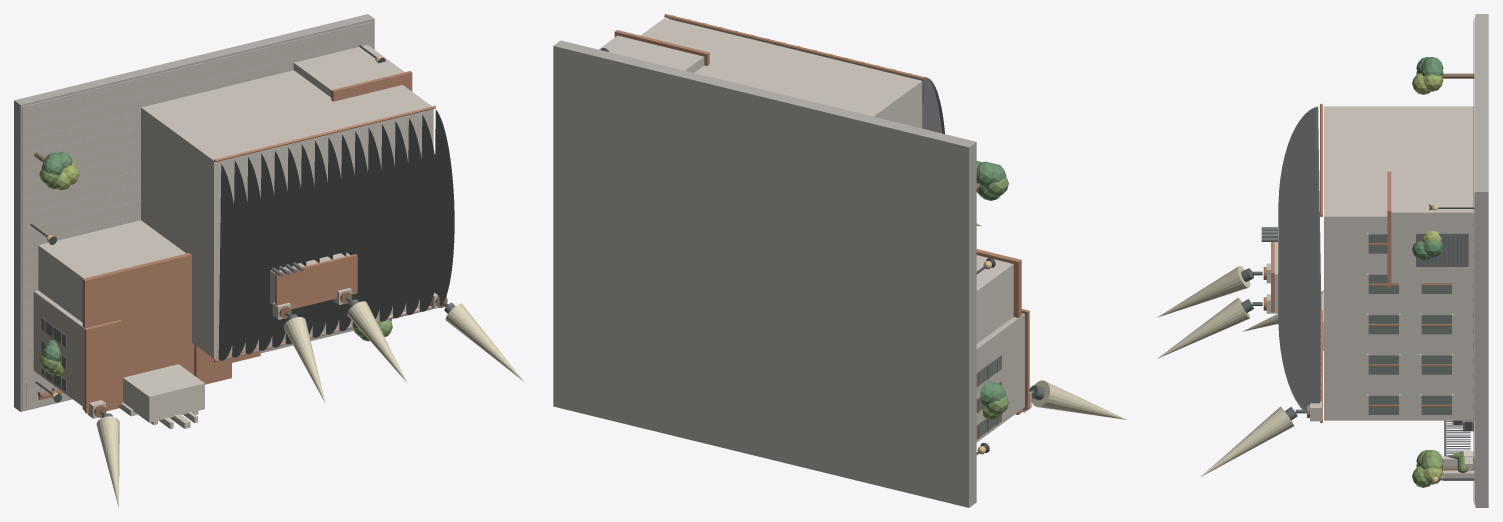
Rendered from film-soundstage.glb.
3 renders of one model, left to right at view 1: azimuth 30°, elevation 25°; view 2: azimuth 150°, elevation 25°; view 3: azimuth 270°, elevation 25°, orthographic. The views are drawn at different scales.
Parts seen in each view (by area): view 1: Soundstage side wall_49, Paving_1, Lobby top trim_95, Cinema lobby_94, Concrete foundation_0, Soundstage structural mass_48, Entrance central tower_96, Flat roof wing_149, Wing cornice_150, Roof rib_51, Penthouse copper top_71, Service annex_242 (+24 smaller); view 2: Concrete foundation_0, Soundstage side wall_49, Flat roof wing_149, Cinema lobby_94, Service annex_242, Searchlight beam_266, Copper arch perimeter_69, Lobby top trim_95, Roof rib_51, Service roof rim_243; view 3: Soundstage side wall_49, Service annex_242, Concrete foundation_0, Roof rib_67, Searchlight beam_284, Searchlight beam_278, Service roller door_244, Searchlight beam_272, Paving_1, Sweeping arched stage roof_50, Stage side window_185, Stage side window_189 (+22 smaller).
Boxes of the visible parts, x1,y1,x2,y2 form: Soundstage side wall_49: (141, 70, 433, 358); Paving_1: (22, 21, 372, 409); Lobby top trim_95: (82, 253, 194, 410); Cinema lobby_94: (38, 220, 185, 322); Concrete foundation_0: (14, 14, 374, 411); Soundstage structural mass_48: (215, 109, 432, 357); Entrance central tower_96: (123, 364, 204, 422); Flat roof wing_149: (33, 290, 112, 407); Wing cornice_150: (84, 320, 122, 413); Roof rib_51: (218, 164, 239, 360); Penthouse copper top_71: (275, 254, 357, 309); Service annex_242: (293, 45, 404, 97); Concrete foundation_0: (553, 40, 976, 507); Soundstage side wall_49: (641, 18, 922, 128); Flat roof wing_149: (976, 313, 1024, 441); Cinema lobby_94: (976, 255, 1013, 343); Service annex_242: (598, 35, 704, 72); Searchlight beam_266: (1032, 380, 1126, 419); Copper arch perimeter_69: (664, 14, 924, 80); Lobby top trim_95: (976, 249, 1021, 414); Roof rib_51: (923, 77, 941, 133); Service roof rim_243: (614, 30, 709, 65); Soundstage side wall_49: (1324, 106, 1474, 420); Service annex_242: (1391, 175, 1474, 283); Concrete foundation_0: (1475, 14, 1488, 507); Roof rib_67: (1278, 216, 1319, 412); Searchlight beam_284: (1201, 406, 1293, 476); Searchlight beam_278: (1157, 298, 1249, 358); Service roller door_244: (1416, 233, 1468, 266); Searchlight beam_272: (1157, 266, 1250, 317); Paving_1: (1474, 17, 1475, 504); Sweeping arched stage roof_50: (1279, 106, 1321, 413); Stage side window_185: (1421, 355, 1451, 374); Stage side window_189: (1368, 355, 1398, 374).
Bounding box in the file's own units: 38.12 × 29.87 × 27.62.
